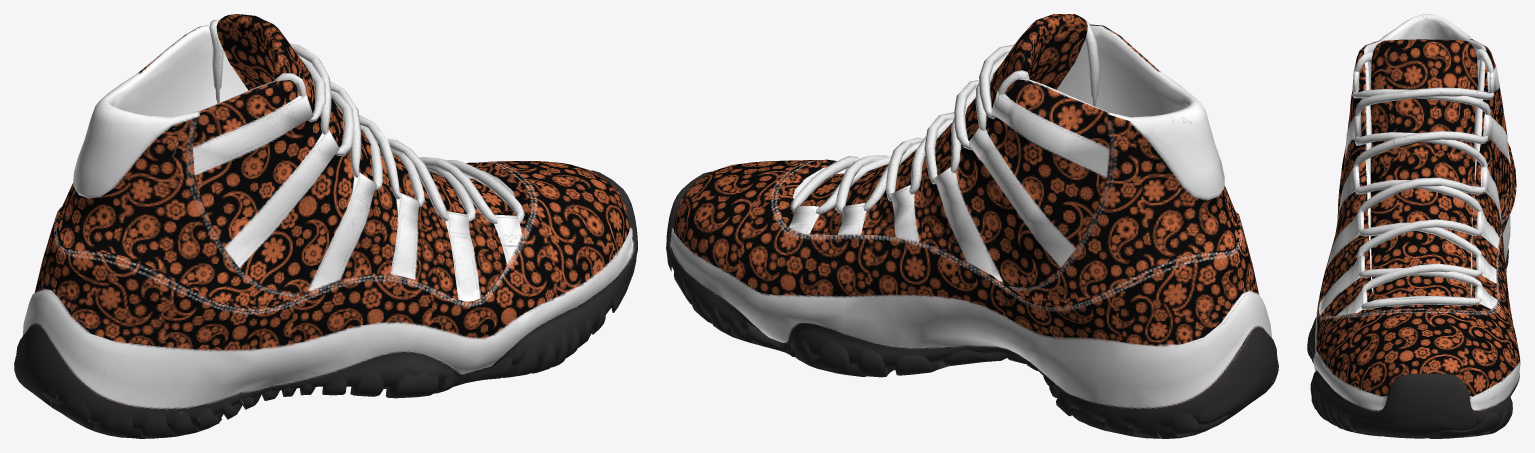
File: bandana.fbx
3 views of the same model, side by side, from view 1: azimuth 30°, elevation 25°; view 2: azimuth 150°, elevation 25°; view 3: azimuth 270°, elevation 25° (orthographic). The views are drawn at different scales.
Visible parts, largest first — view 1: RED ORAMGE SNEAKER RIGHT; view 2: RED ORAMGE SNEAKER RIGHT; view 3: RED ORAMGE SNEAKER RIGHT.
Boxes of the visible parts, bbox=[...] form: RED ORAMGE SNEAKER RIGHT: bbox=[14, 14, 637, 438]; RED ORAMGE SNEAKER RIGHT: bbox=[666, 14, 1278, 438]; RED ORAMGE SNEAKER RIGHT: bbox=[1307, 14, 1520, 438].
Size of the model in its own units: 31.98 by 18.62 by 12.28.
1 material, 1 textured.
